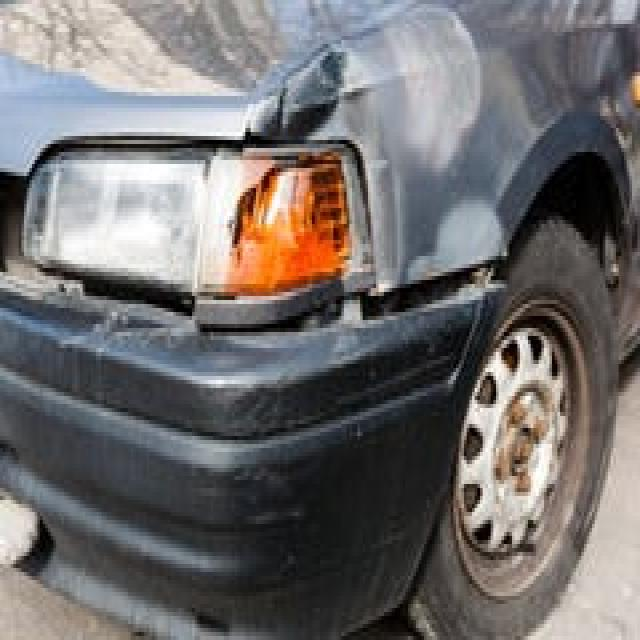crush: (0, 0, 640, 388)
